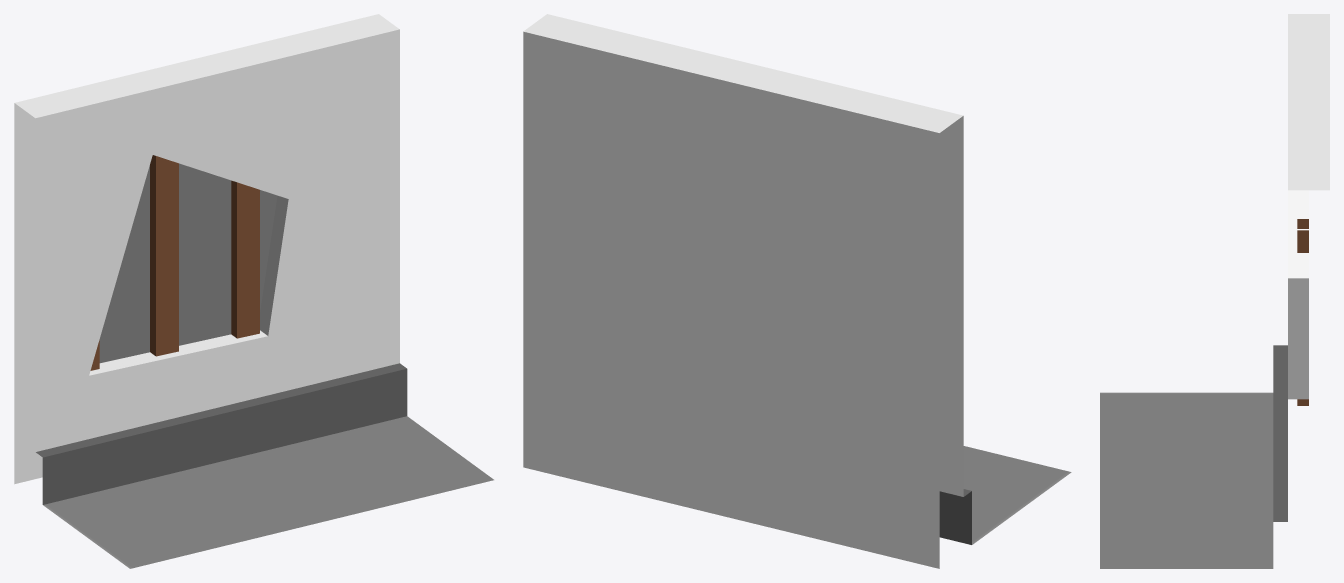
File: E_Wall_Straight_Cracked_1.fbx
3 views of the same model, side by side, from view 1: azimuth 30°, elevation 25°; view 2: azimuth 150°, elevation 25°; view 3: azimuth 270°, elevation 25° (orthographic). The views are drawn at different scales.
Parts seen in each view (by area): view 1: E_Wall_Straight_Cracked_1; view 2: E_Wall_Straight_Cracked_1; view 3: E_Wall_Straight_Cracked_1.
Part boxes in pixels (x1=…): E_Wall_Straight_Cracked_1: x1=14, y1=14, x2=493, y2=568; E_Wall_Straight_Cracked_1: x1=523, y1=14, x2=1071, y2=568; E_Wall_Straight_Cracked_1: x1=1100, y1=14, x2=1329, y2=568.
Size of the model in its own units: 200 by 200 by 110.
